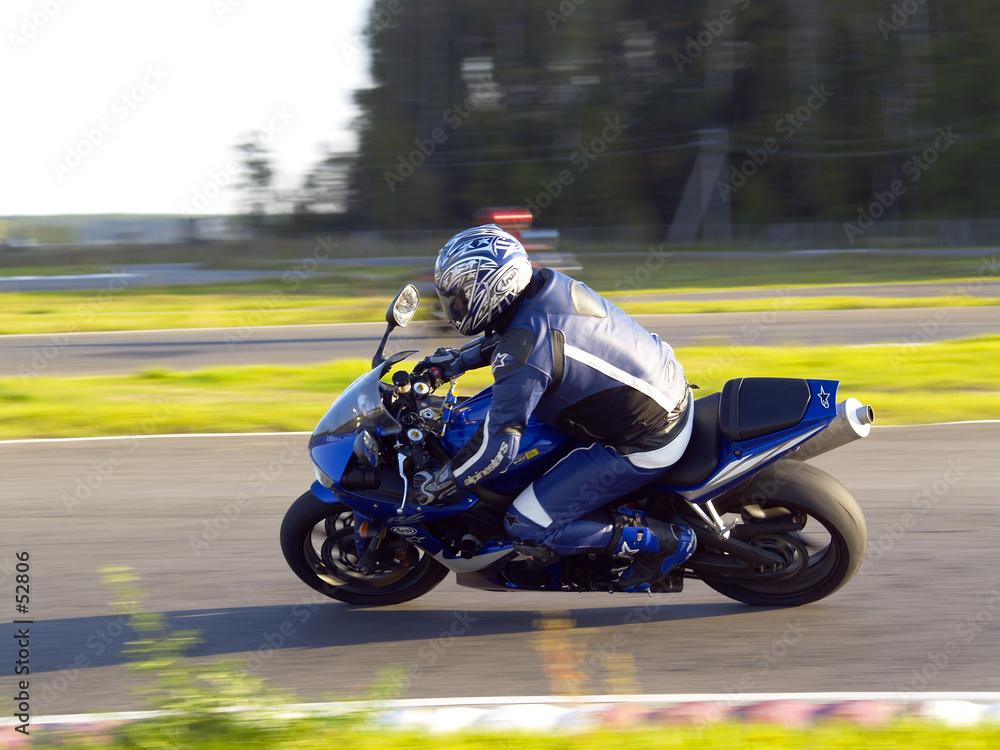helmet: (433, 222, 535, 338)
